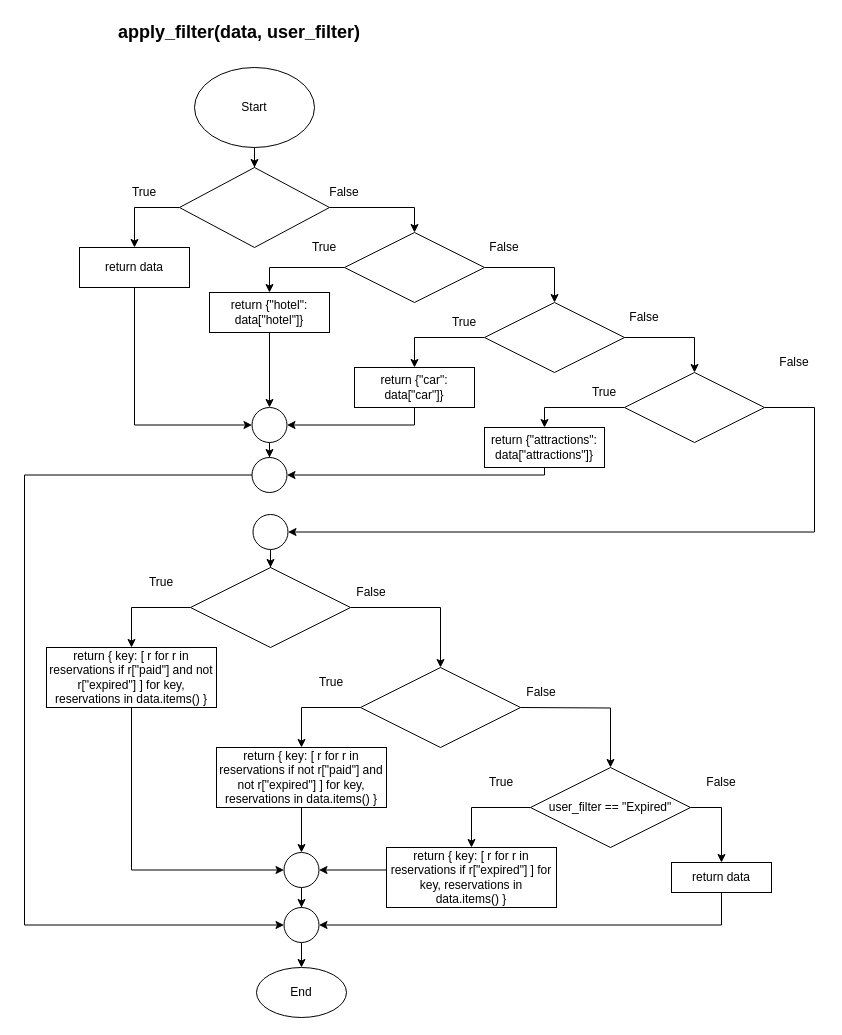
Image size: 842x1035. Some labels were removed from this diagram. The box of each missing label's shape, as (x1, y1, x2, y2) in pixels:
user_filter == "Attractions": (624, 372, 764, 442)
user_filter == "Car": (484, 302, 624, 372)
user_filter == "Default": (178, 166, 330, 248)
user_filter == "Hotel": (344, 232, 484, 302)
user_filter == "Paid": (190, 566, 350, 648)
user_filter == "Unpaid": (360, 666, 520, 748)
